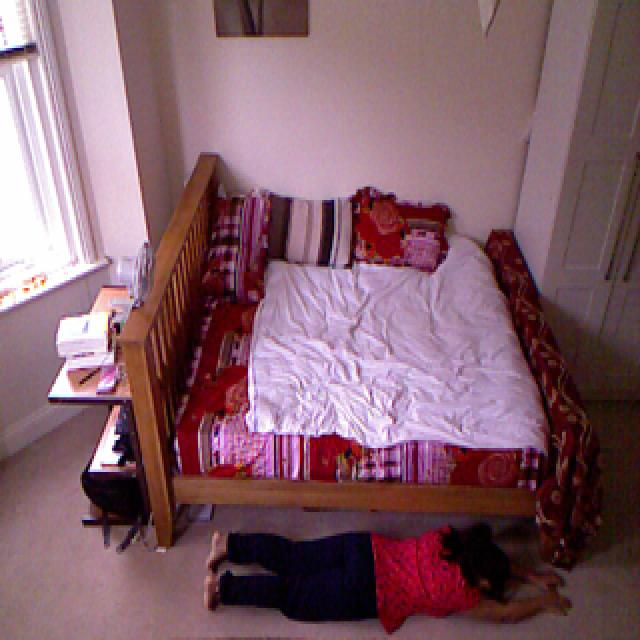lying: (201, 508, 571, 632)
